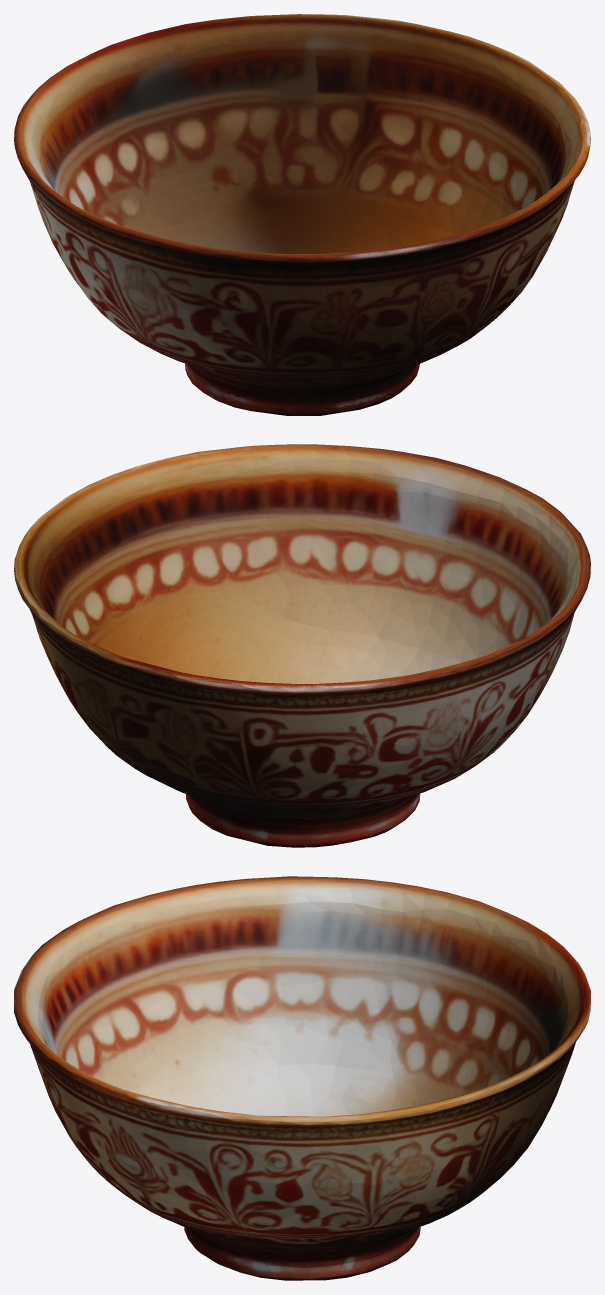
The model's file is ceramic-bowl-vintage.jpeg.glb.
The picture shows the model from 3 angles, top to bottom: view 1: azimuth 30°, elevation 25°; view 2: azimuth 150°, elevation 25°; view 3: azimuth 270°, elevation 25°; orthographic projection.
Parts seen in each view (by area): view 1: world; view 2: world; view 3: world.
Part boxes in pixels (x1,y1,x2,y2): world: [14, 14, 590, 415]; world: [14, 444, 590, 847]; world: [14, 876, 590, 1280].
Size of the model in its own units: 1 by 0.4518 by 0.9987.
1 material, 1 textured.
